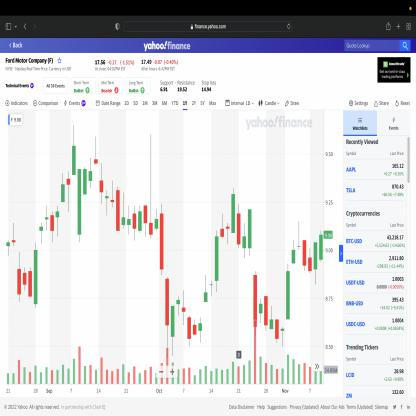Bearish Abandoned Baby: (88, 135, 104, 206)
Bearish Kicker: (247, 208, 258, 338)
Bullish Engulfing: (28, 240, 38, 310)
